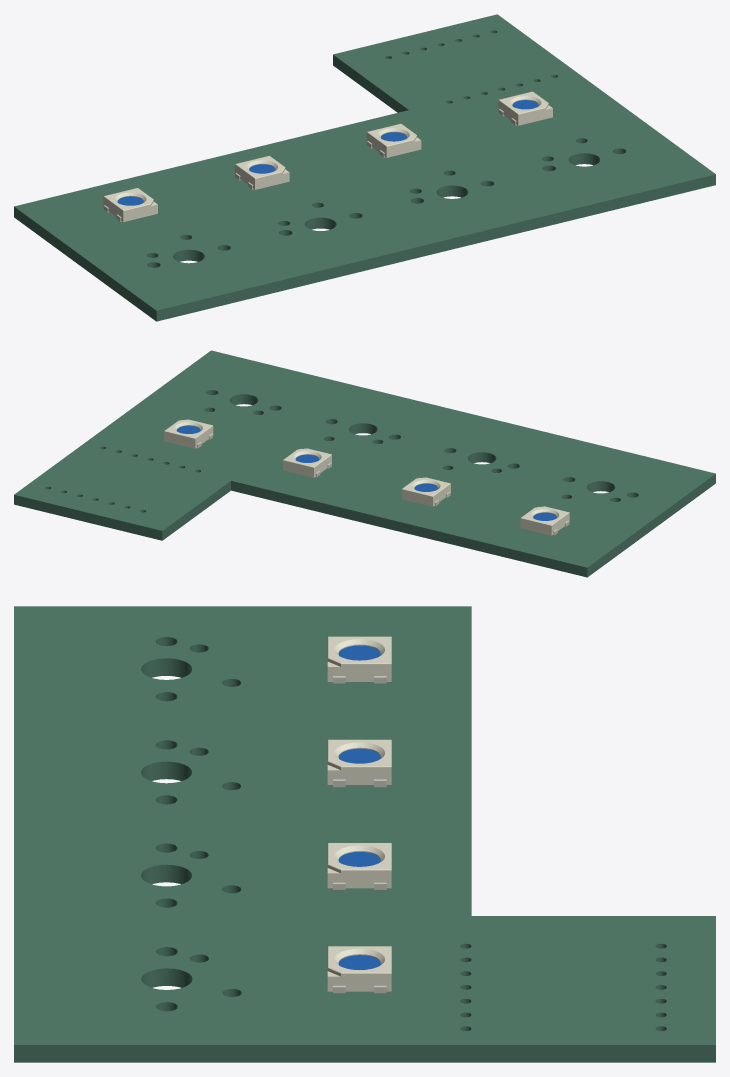
File: macropad.glb
3 renders of one model, top to bottom at view 1: azimuth 30°, elevation 25°; view 2: azimuth 150°, elevation 25°; view 3: azimuth 270°, elevation 25°, orthographic. The views are drawn at different scales.
Parts seen in each view (by area): view 1: =>[0:1:1:3], D3, D4, D1, D2; view 2: =>[0:1:1:3], D1, D2, D4, D3; view 3: =>[0:1:1:3], D2, D4, D3, D1.
Part boxes in pixels (box(x1,y1,x2,y2)): =>[0:1:1:3]: box(14, 14, 715, 321); D3: box(366, 123, 421, 157); D4: box(498, 91, 552, 125); D1: box(103, 188, 157, 221); D2: box(235, 156, 289, 189); =>[0:1:1:3]: box(14, 350, 715, 577); D1: box(520, 506, 569, 535); D2: box(401, 477, 450, 506); D4: box(164, 419, 213, 448); D3: box(283, 448, 331, 477); =>[0:1:1:3]: box(14, 606, 715, 1062); D2: box(327, 739, 391, 787); D4: box(327, 946, 391, 993); D3: box(327, 843, 391, 890); D1: box(327, 636, 391, 683).
Size of the model in its own units: 0.081 by 0.0033 by 0.0548.
